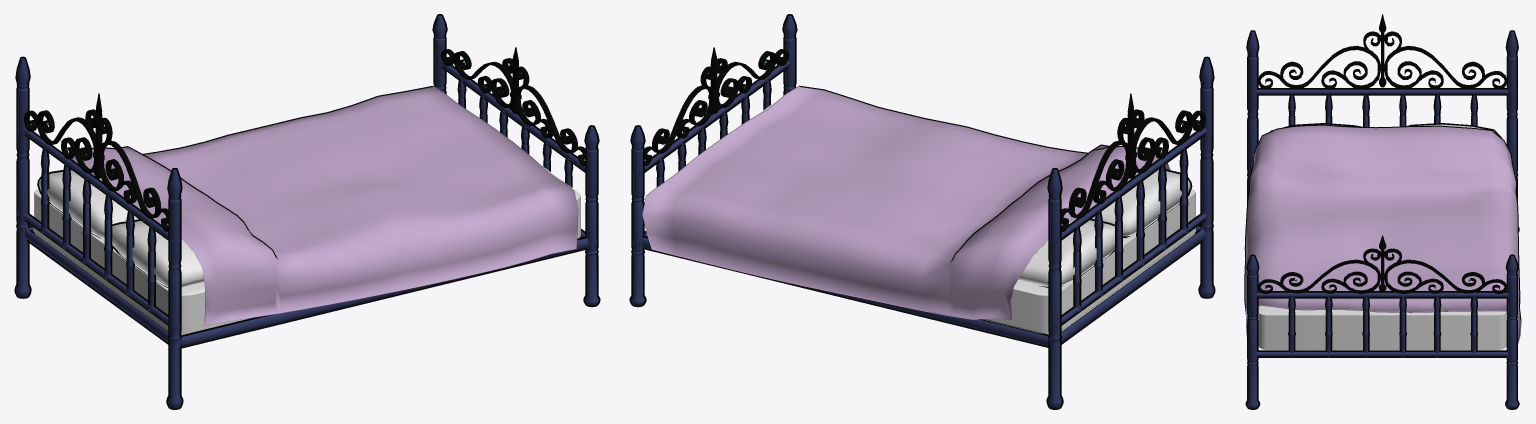
The model's file is bed.fbx.
3 renders of one model, left to right at view 1: azimuth 30°, elevation 25°; view 2: azimuth 150°, elevation 25°; view 3: azimuth 270°, elevation 25°, orthographic. The views are drawn at different scales.
Parts seen in each view (by area): view 1: Plane.002, Cylinder.014, Plane.003, Cube, Cube.002, Cube.001; view 2: Plane.002, Cylinder.014, Plane.003, Cube, Cube.001, Cube.002; view 3: Plane.002, Cylinder.014, Cube, Plane.003.
Part boxes in pixels (bbox=[...]): Plane.002: bbox=[71, 85, 578, 325]; Cylinder.014: bbox=[14, 14, 600, 409]; Plane.003: bbox=[24, 47, 586, 231]; Cube: bbox=[34, 165, 580, 334]; Cube.002: bbox=[112, 219, 204, 287]; Cube.001: bbox=[37, 169, 138, 238]; Plane.002: bbox=[642, 85, 1170, 319]; Cylinder.014: bbox=[629, 14, 1215, 409]; Plane.003: bbox=[643, 47, 1205, 231]; Cube: bbox=[758, 95, 1195, 334]; Cube.001: bbox=[1018, 218, 1123, 287]; Cube.002: bbox=[1092, 169, 1192, 238]; Plane.002: bbox=[1244, 124, 1521, 343]; Cylinder.014: bbox=[1245, 30, 1519, 409]; Cube: bbox=[1258, 305, 1507, 349]; Plane.003: bbox=[1258, 14, 1507, 293].
Size of the model in its own units: 842 by 480 by 548.
